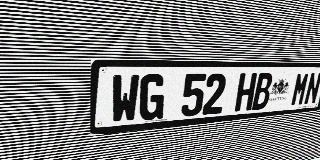2: (202, 73, 227, 115)
5: (181, 74, 207, 117)
B: (252, 73, 274, 110)
G: (138, 74, 166, 121)
H: (234, 73, 257, 112)
M: (290, 72, 310, 106)
N: (303, 72, 320, 105)
W: (110, 74, 140, 124)
